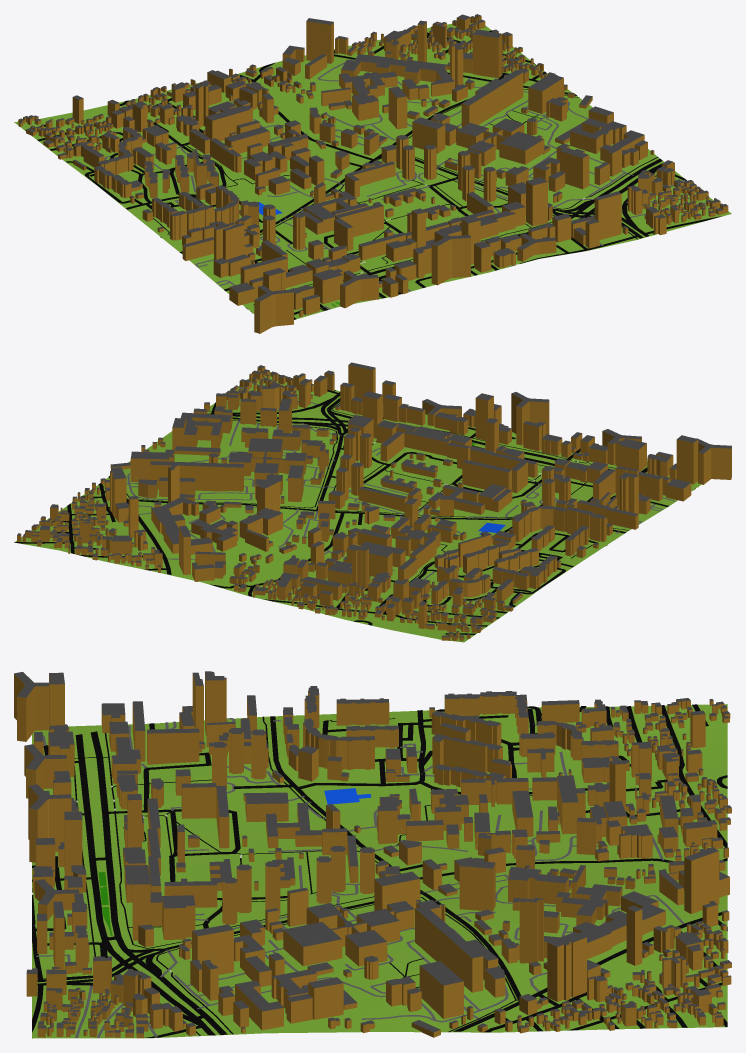
File: tile_03_05.glb
3 views of the same model, one above another, from view 1: azimuth 30°, elevation 25°; view 2: azimuth 150°, elevation 25°; view 3: azimuth 270°, elevation 25° (orthographic). The views are drawn at different scales.
Visible parts, largest first — view 1: Ub_small.osm_buildings_03_05, Terrain_03_05, Ub_small.osm_roads_residential_03_05, Ub_small.osm_roads_service_03_05, Ub_small.osm_paths_footway_03_05, Ub_small.osm_roads_primary_03_05, Ub_small.osm_roads_tertiary_03_05; view 2: Ub_small.osm_buildings_03_05, Terrain_03_05, Ub_small.osm_roads_residential_03_05, Ub_small.osm_roads_service_03_05, Ub_small.osm_paths_footway_03_05, Ub_small.osm_roads_tertiary_03_05, Ub_small.osm_roads_primary_03_05, Ub_small.osm_roads_secondary_03_05; view 3: Ub_small.osm_buildings_03_05, Terrain_03_05, Ub_small.osm_roads_residential_03_05, Ub_small.osm_roads_primary_03_05, Ub_small.osm_roads_service_03_05, Ub_small.osm_paths_footway_03_05, Ub_small.osm_roads_tertiary_03_05, Ub_small.osm_roads_secondary_03_05.
Part boxes in pixels (left/top/right/bottom): Ub_small.osm_buildings_03_05: left=18, top=14, right=728, bottom=333; Terrain_03_05: left=14, top=23, right=731, bottom=318; Ub_small.osm_roads_residential_03_05: left=25, top=27, right=721, bottom=319; Ub_small.osm_roads_service_03_05: left=104, top=59, right=705, bottom=309; Ub_small.osm_paths_footway_03_05: left=153, top=89, right=656, bottom=313; Ub_small.osm_roads_primary_03_05: left=245, top=158, right=662, bottom=313; Ub_small.osm_roads_tertiary_03_05: left=179, top=99, right=577, bottom=253; Ub_small.osm_buildings_03_05: left=17, top=362, right=731, bottom=640; Terrain_03_05: left=15, top=372, right=701, bottom=642; Ub_small.osm_roads_residential_03_05: left=14, top=372, right=668, bottom=634; Ub_small.osm_roads_service_03_05: left=127, top=382, right=674, bottom=601; Ub_small.osm_paths_footway_03_05: left=126, top=390, right=670, bottom=582; Ub_small.osm_roads_tertiary_03_05: left=128, top=424, right=625, bottom=533; Ub_small.osm_roads_primary_03_05: left=207, top=398, right=695, bottom=490; Ub_small.osm_roads_secondary_03_05: left=108, top=392, right=344, bottom=574; Ub_small.osm_buildings_03_05: left=14, top=671, right=731, bottom=1038; Terrain_03_05: left=32, top=704, right=727, bottom=1038; Ub_small.osm_roads_residential_03_05: left=32, top=704, right=727, bottom=1037; Ub_small.osm_roads_primary_03_05: left=66, top=731, right=227, bottom=1035; Ub_small.osm_roads_service_03_05: left=36, top=718, right=684, bottom=1037; Ub_small.osm_paths_footway_03_05: left=32, top=716, right=532, bottom=1035; Ub_small.osm_roads_tertiary_03_05: left=133, top=716, right=521, bottom=1000; Ub_small.osm_roads_secondary_03_05: left=37, top=912, right=721, bottom=1031.
Bounding box in the file's own units: 1031 × 119 × 960.
